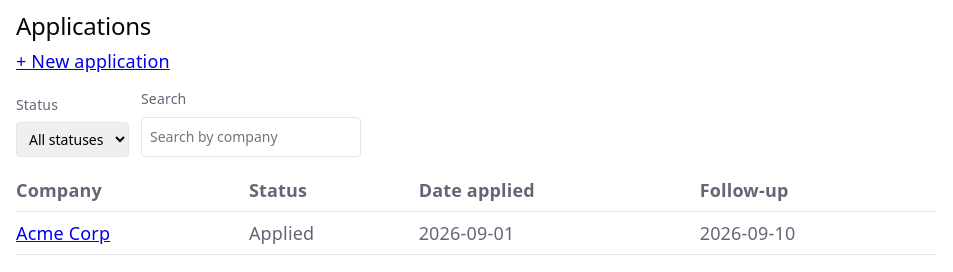
Test: ApplicationsListPage › shows a message when no applications match the current filters
The width and height of the screenshot is (953, 272).
Check: the link "Acme Corp" is shown, box [16,221,110,245]
Type "nonexistent" into the search field labelled "Search" at (251, 137), box [141,116,361,157]
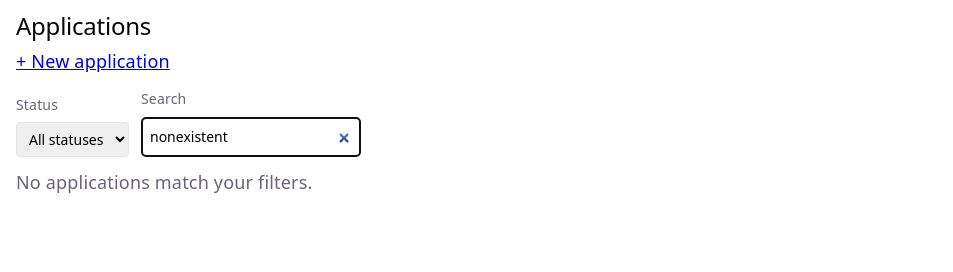
Check: the text "No applications match your filters." is shown, box [16,170,312,194]
